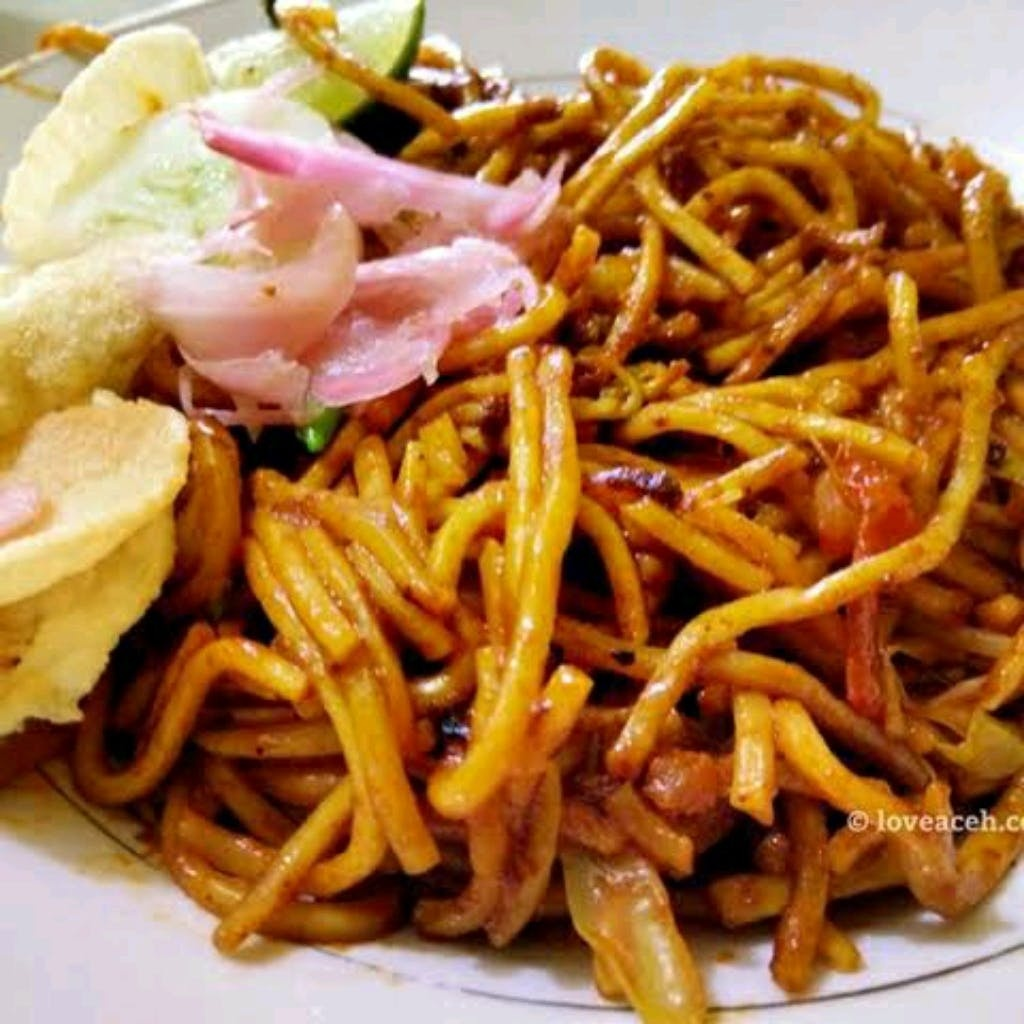mie_aceh: (1, 71, 1024, 978)
